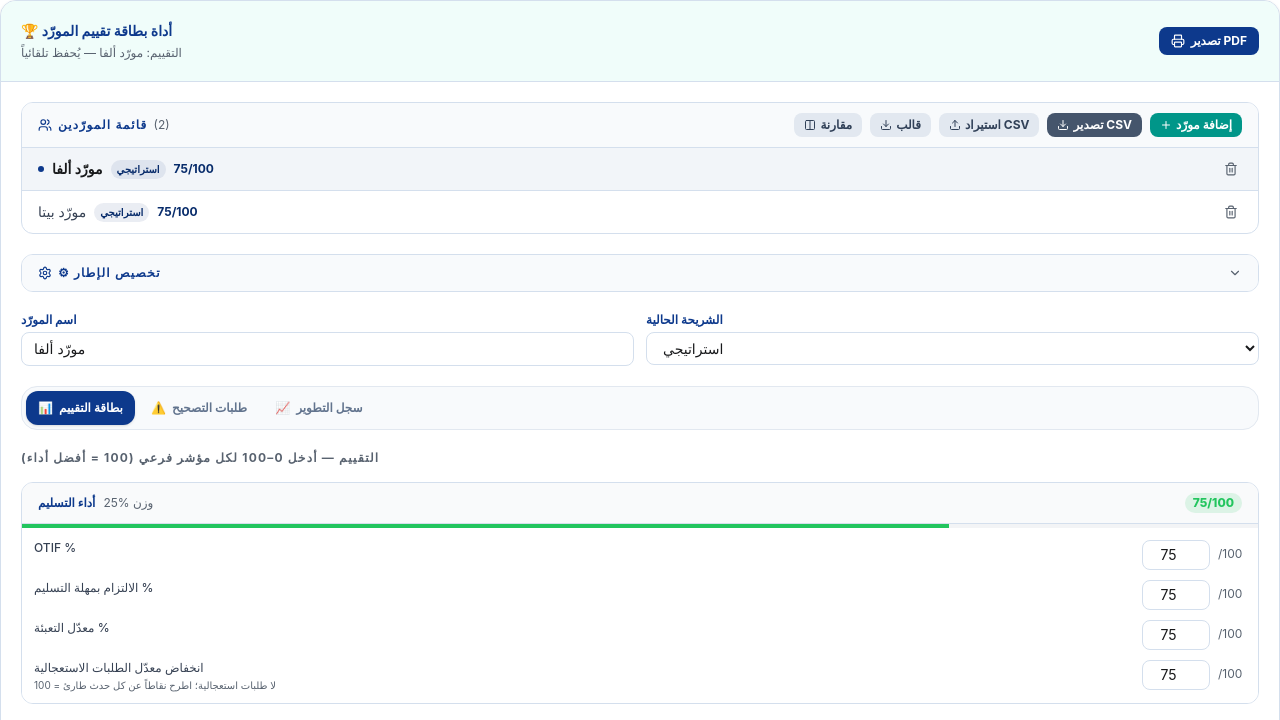
Comparison table — Winner column, Arabic mode › shows "تعادل" (Tie in Arabic) for every dimension row when scores are equal
The image size is (1280, 720).
// Arabic mode compare button is "مقارنة"
Click the button "مقارنة".
click(828, 125)  # box x1=794 y1=113 x2=862 y2=137
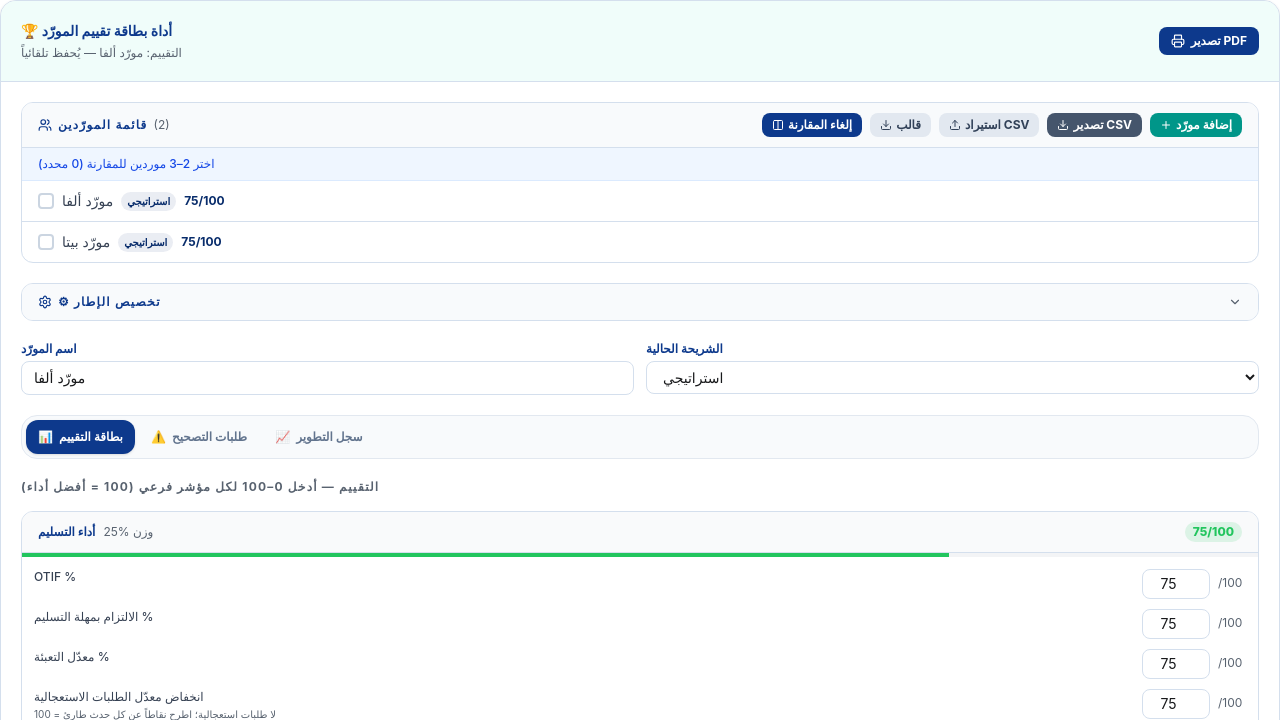
Click the text "مورّد ألفا".
click(88, 201)  # box x1=62 y1=191 x2=113 y2=211
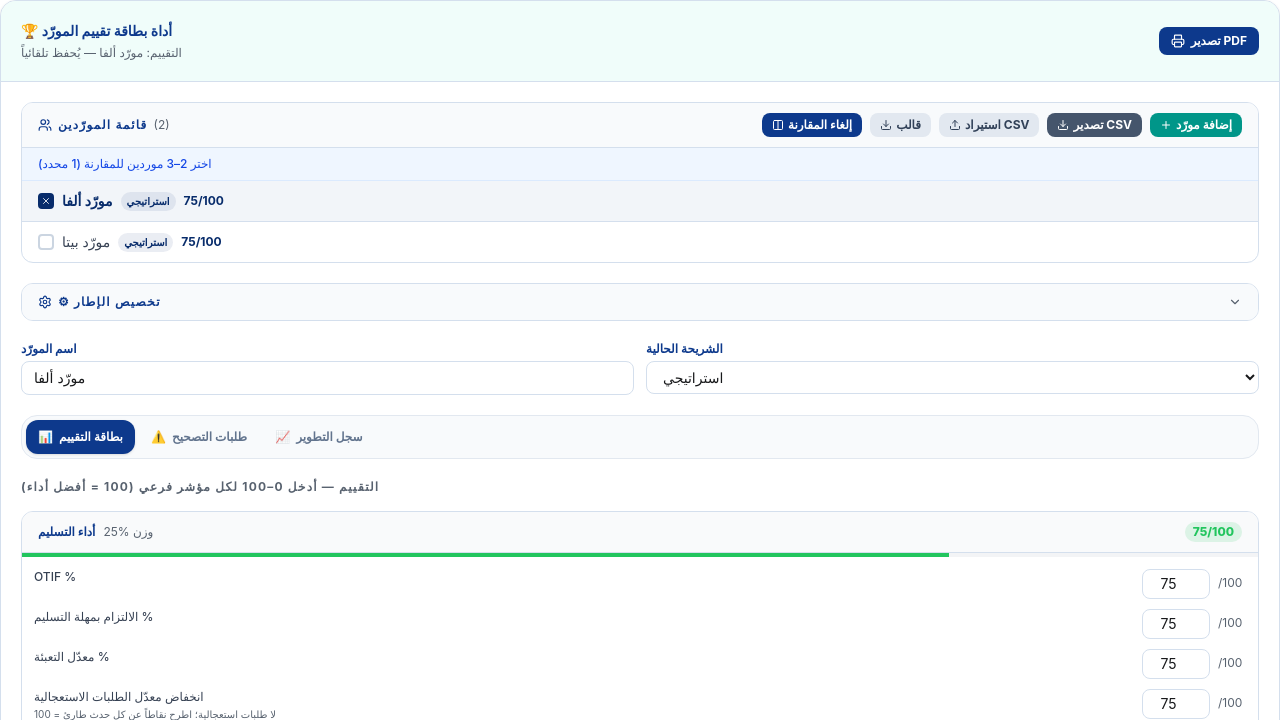
Click the text "مورّد بيتا".
click(86, 242)  # box x1=62 y1=232 x2=110 y2=252
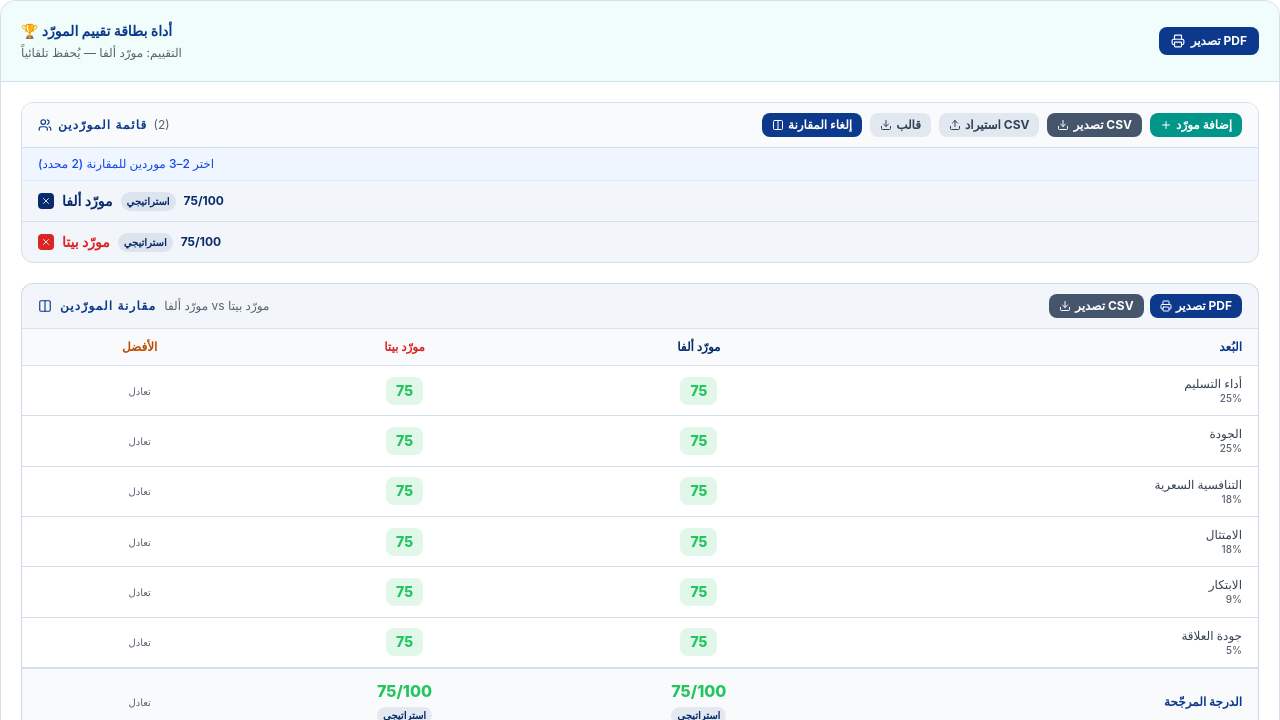
Check: the column heading "الأفضل" is shown, box x1=22 y1=329 x2=257 y2=366
